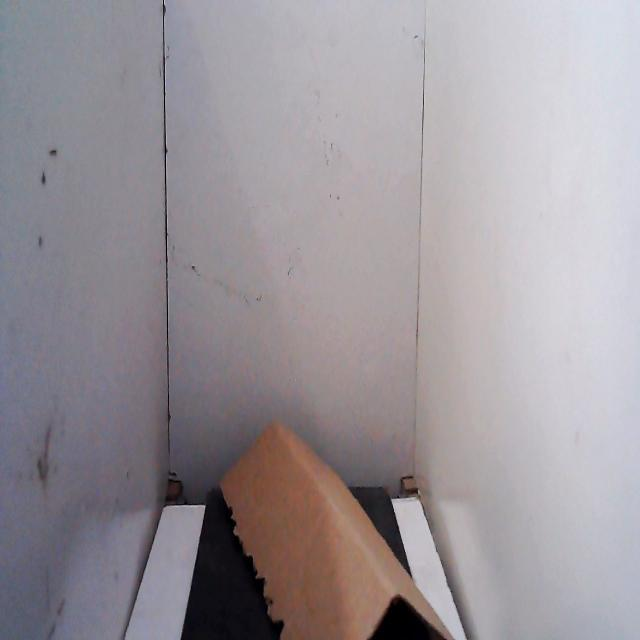paper: (216, 409, 470, 640)
